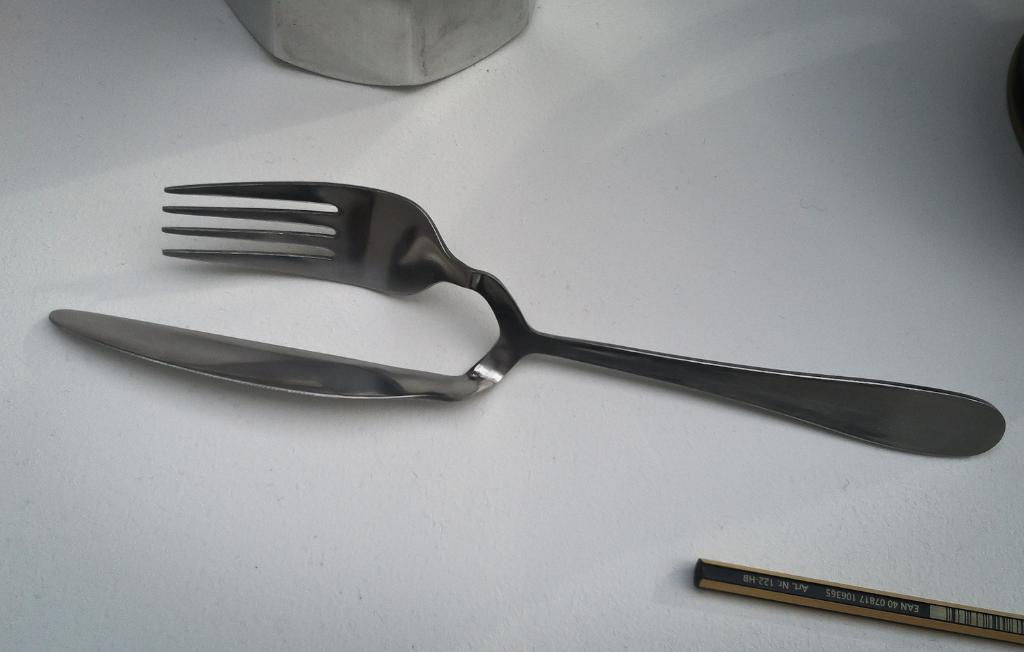fork: (48, 181, 1005, 457)
